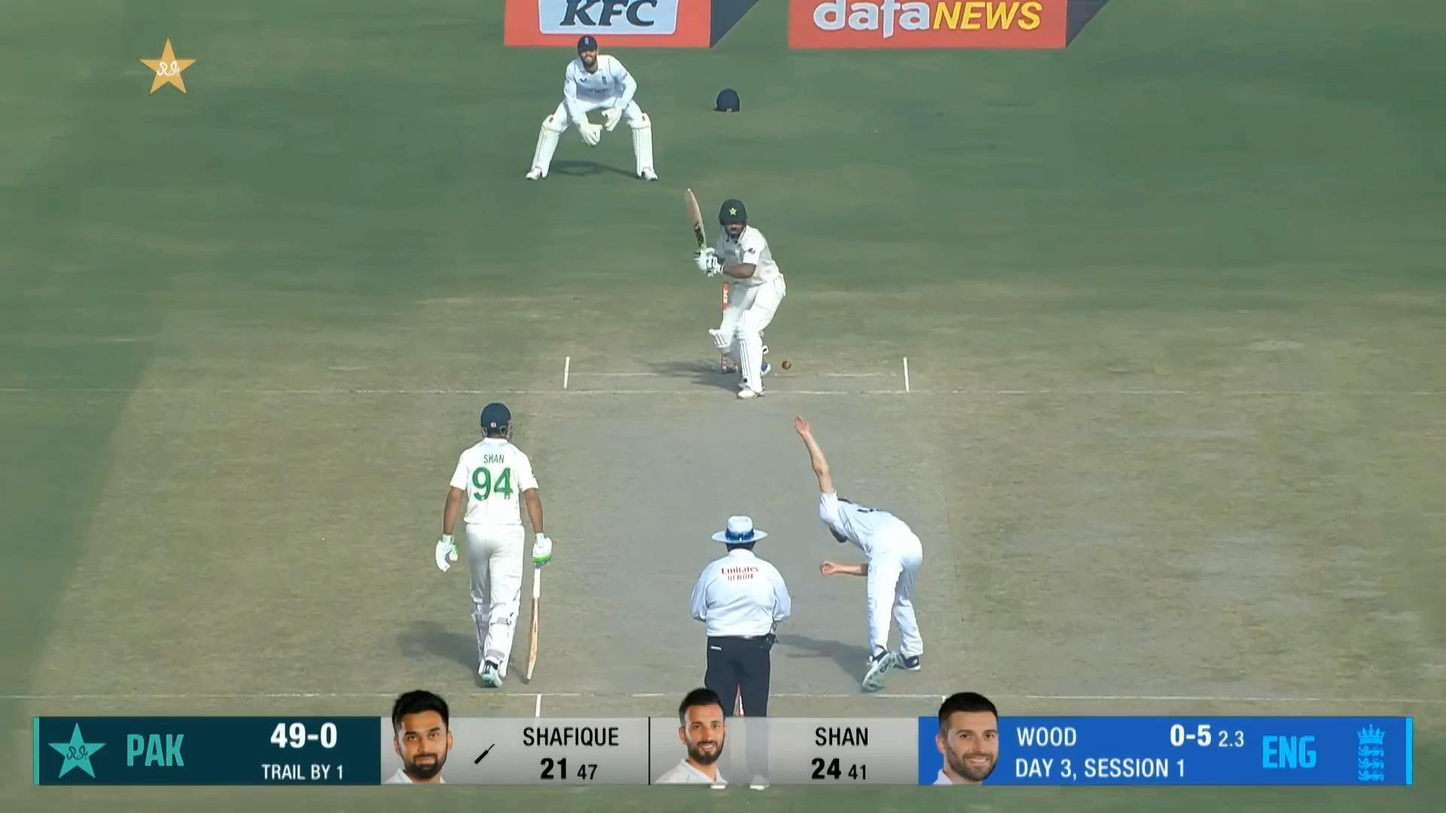BM 1: (682, 187, 788, 401)
BO: (793, 415, 924, 693)
